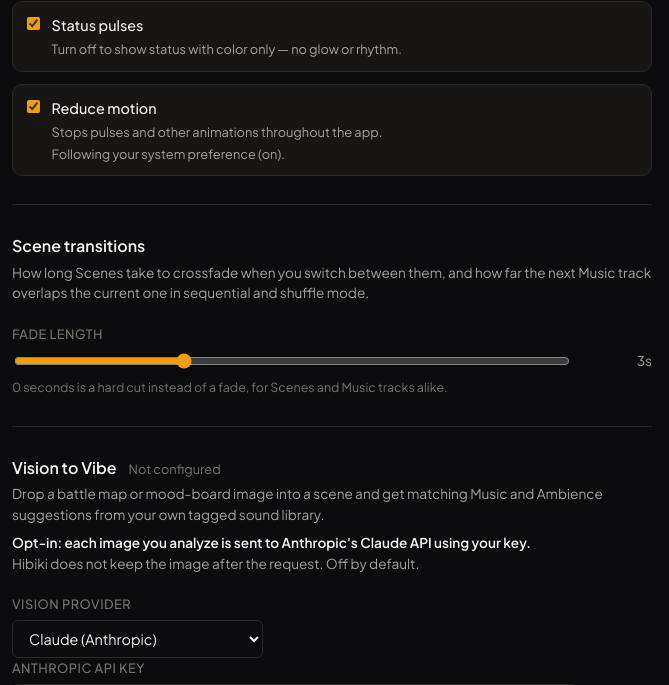
it: settingsView › scene transitions section › saves the fade length on change
(page scrolled)
Set the slider labelled "Fade length" to "4.5": (265, 361) 14,353 -> 570,369
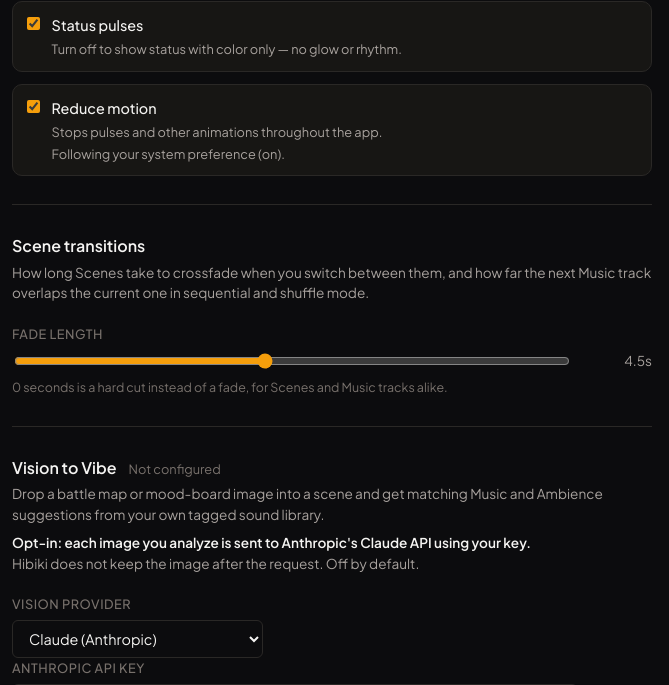
Check: the text with class "fade-value" reads "4.5s", box 624,352 -> 652,369
